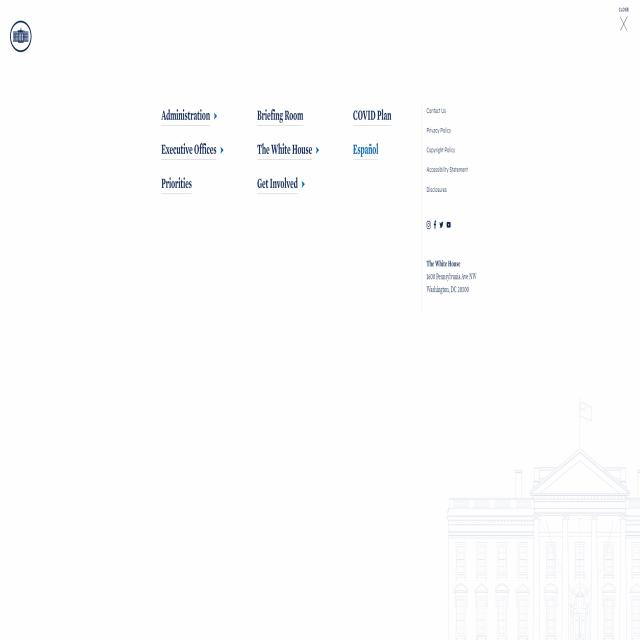tab-bar: (156, 95, 400, 218)
